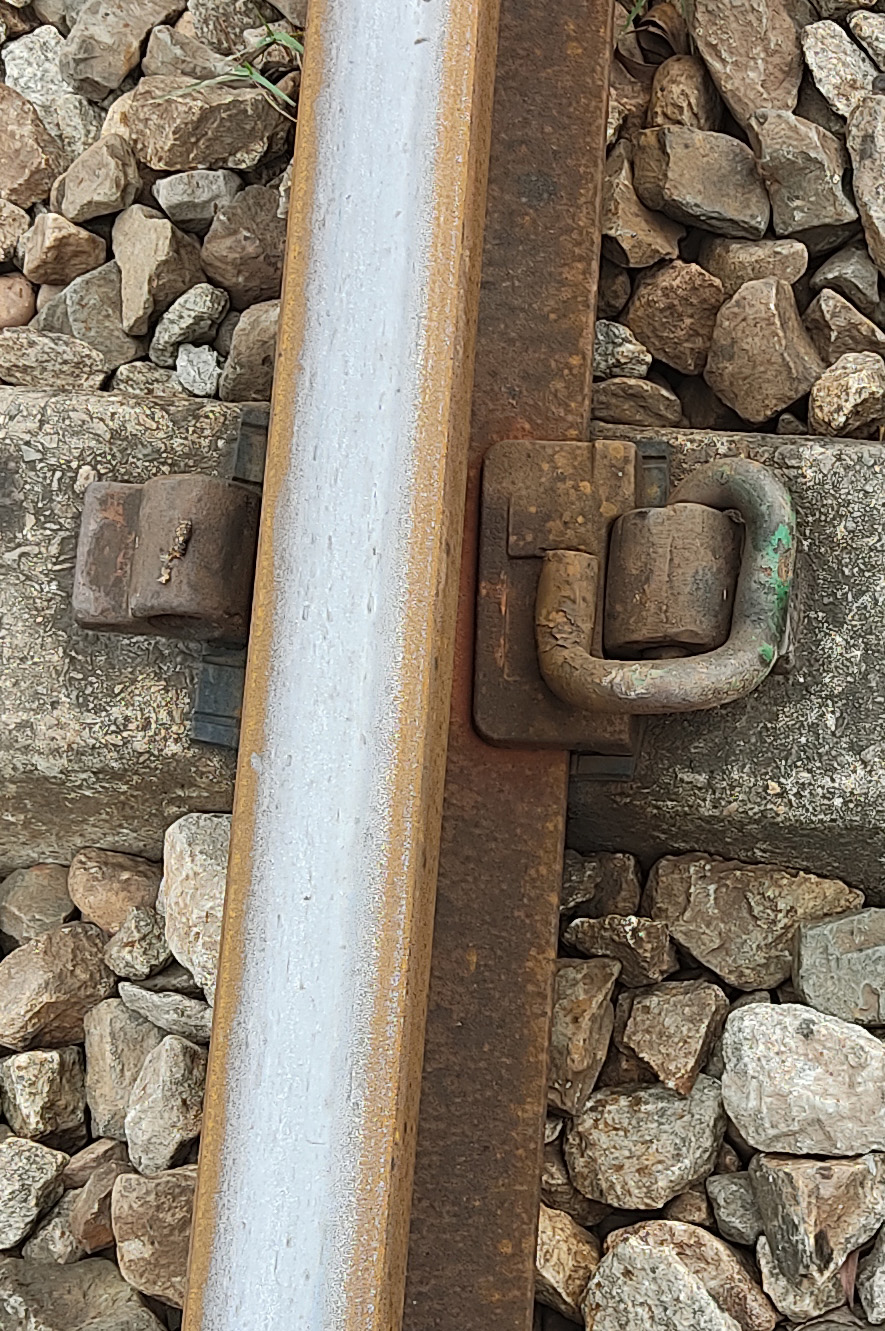error1: (485, 392, 848, 761), (71, 415, 256, 689)
